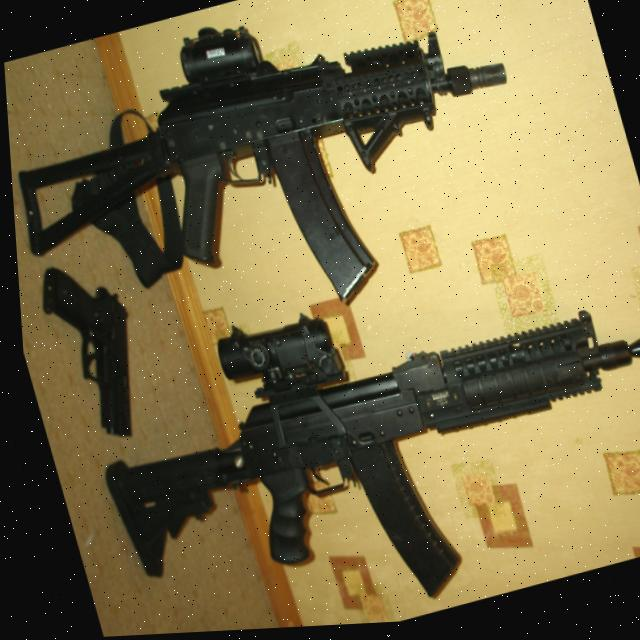firearm: (46, 216, 640, 639), (0, 0, 553, 385)
pistol: (25, 243, 152, 446)
